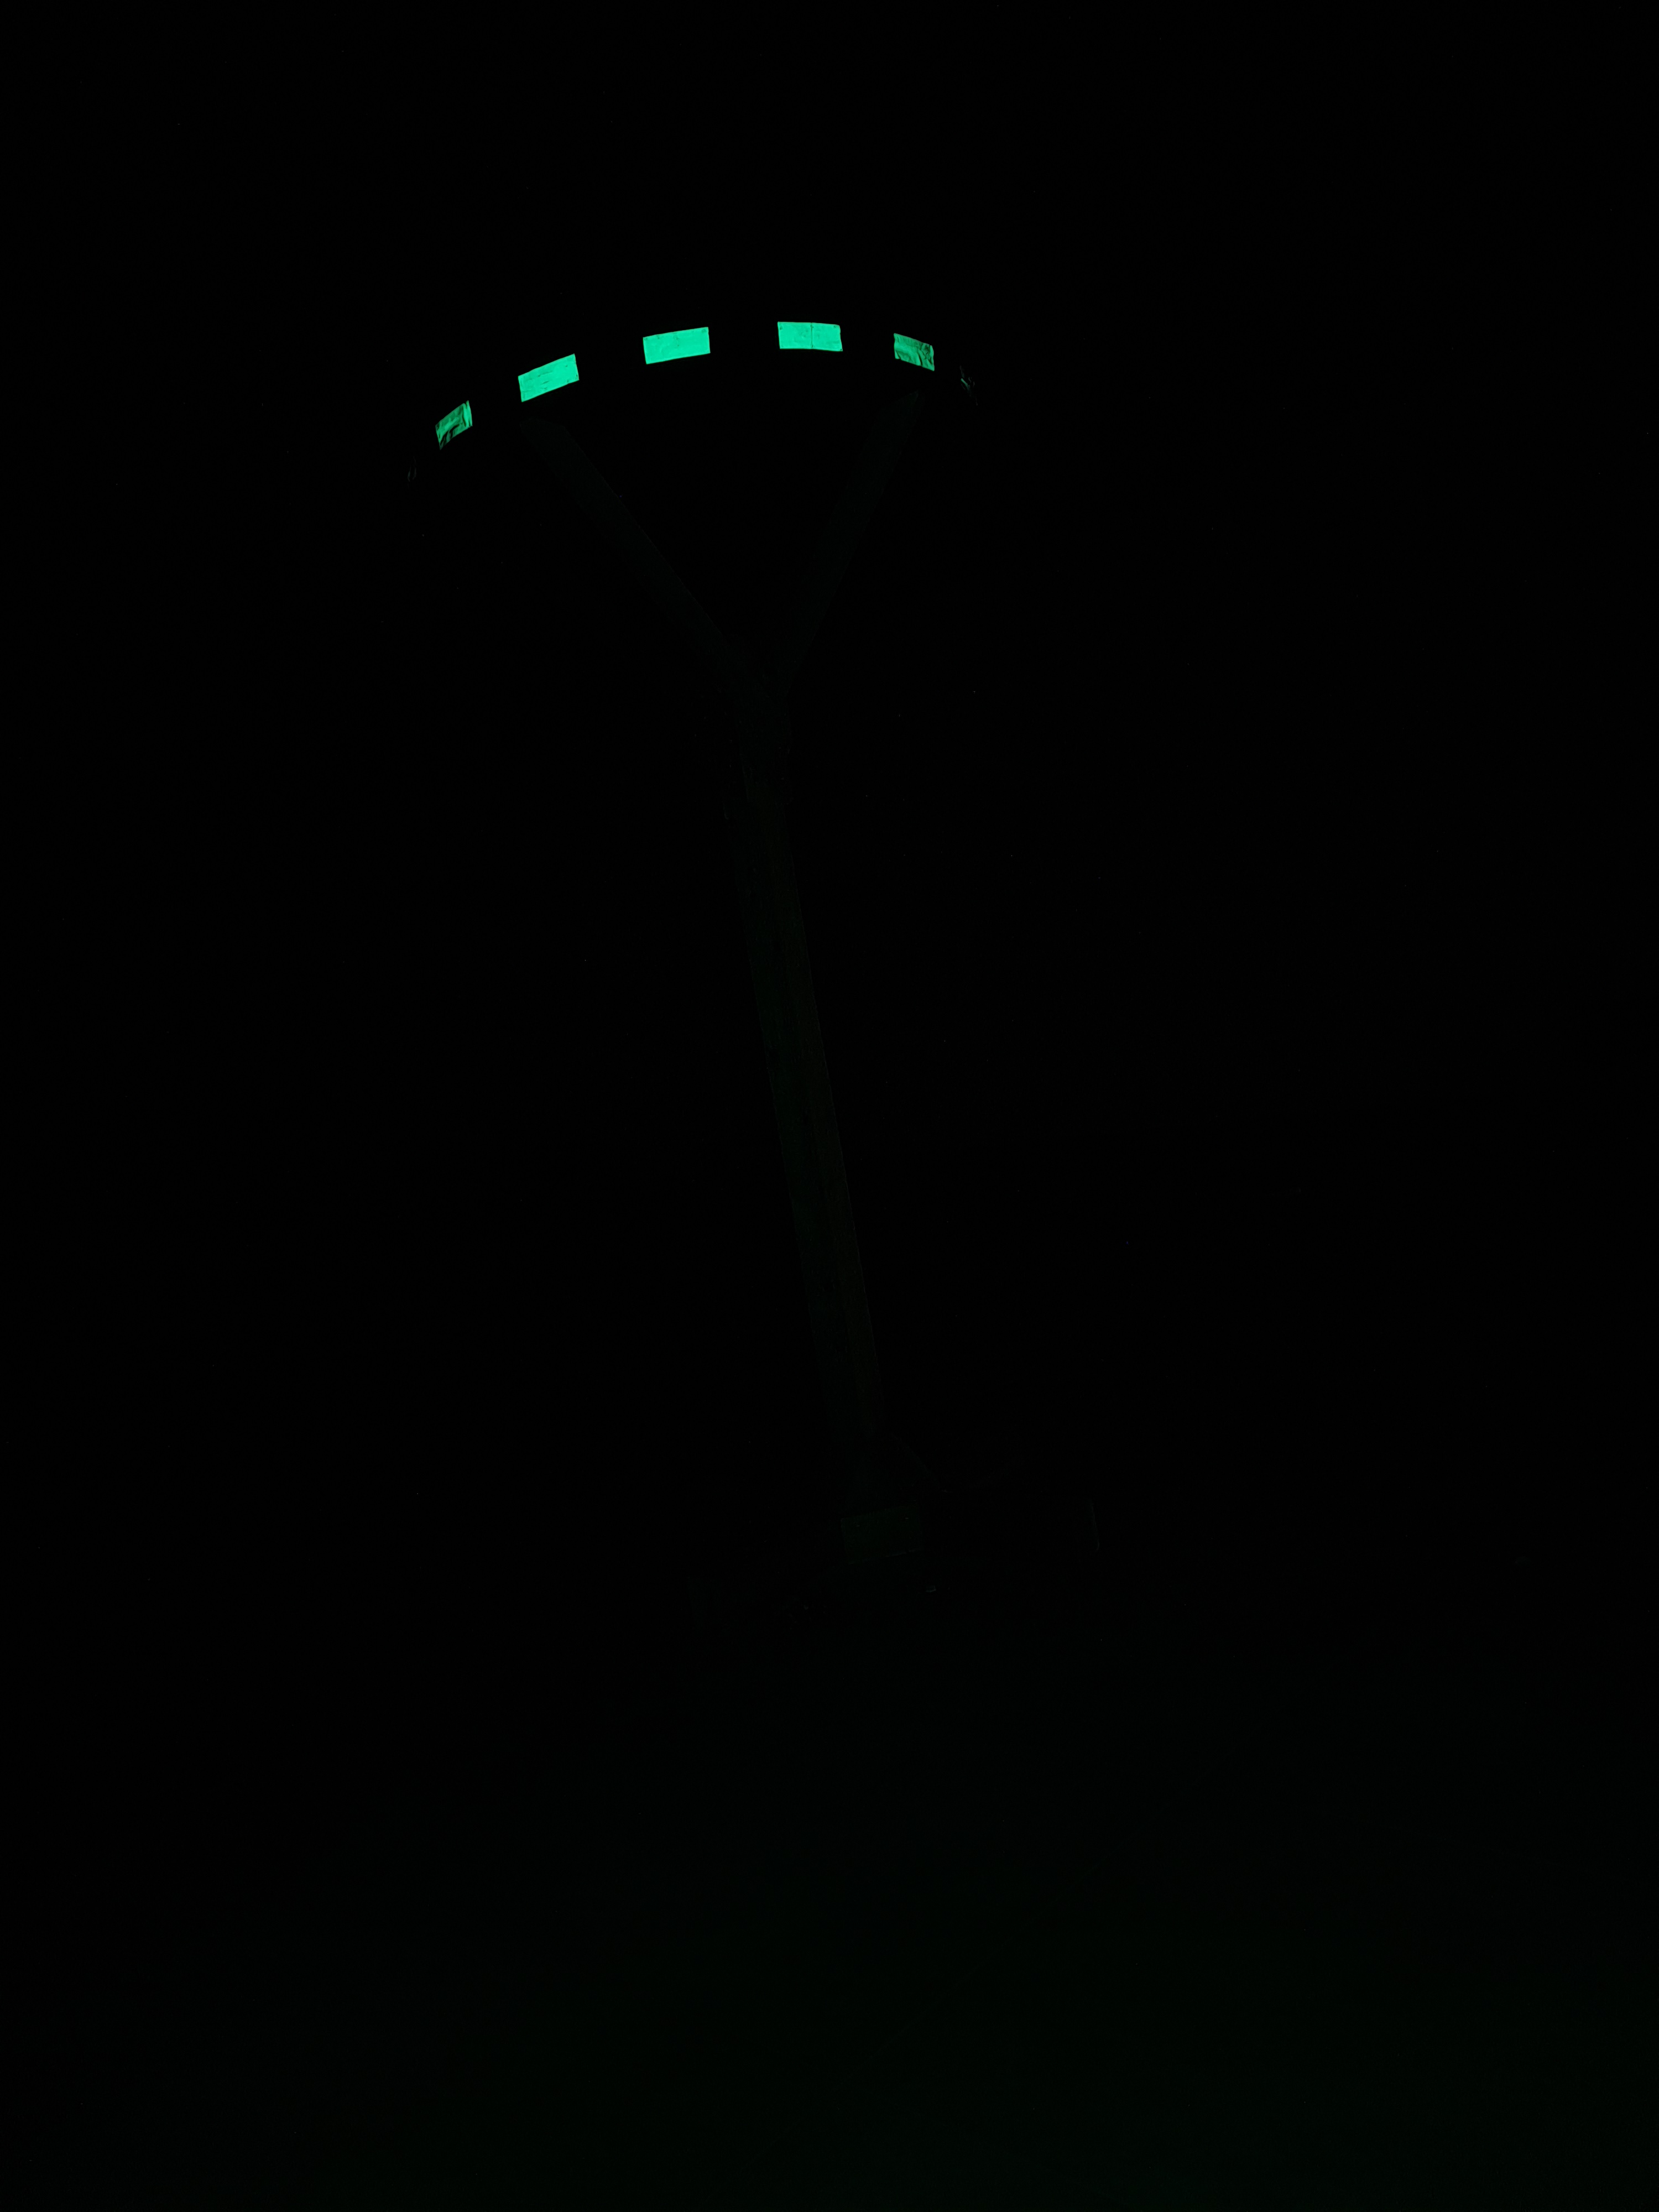hoop: (432, 320, 941, 449)
